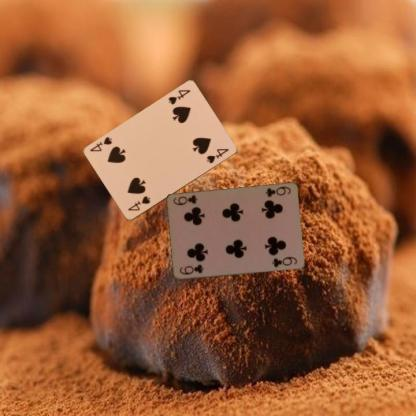4s: (165, 88, 192, 106), (126, 194, 152, 212)
6c: (263, 184, 292, 198), (177, 262, 204, 276)
